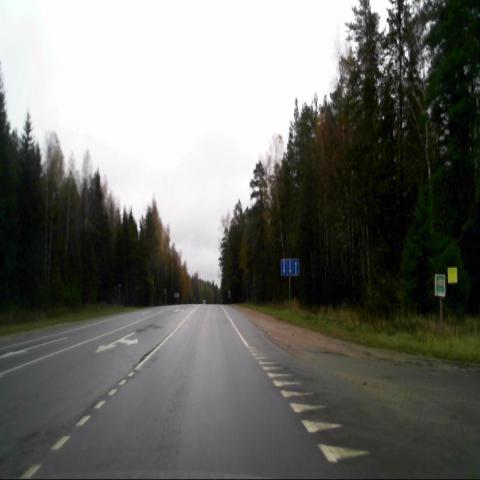5_15_7: (280, 257, 299, 277)
